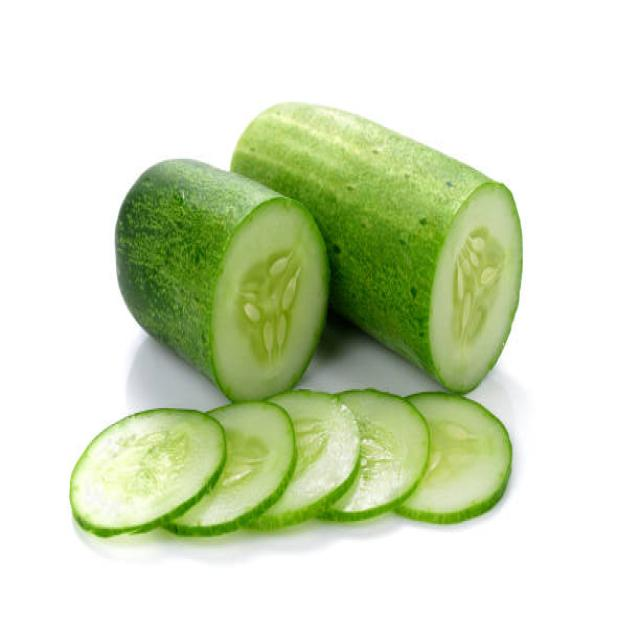cucumber: (231, 102, 523, 389), (114, 158, 332, 410)
